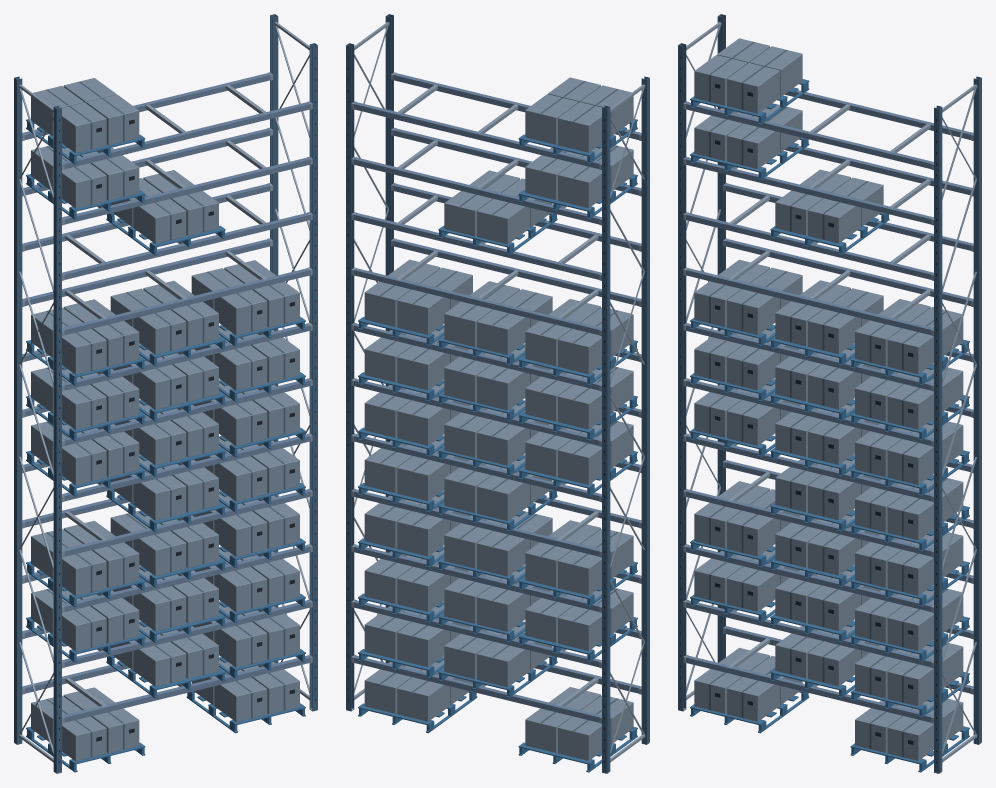
File: SM_GHS_V2Rack_B_W37619_Occ70.fbx
3 renders of one model, left to right at view 1: azimuth 30°, elevation 25°; view 2: azimuth 150°, elevation 25°; view 3: azimuth 330°, elevation 25°, orthographic.
Parts seen in each view (by area): view 1: SM_GHS_V2Rack_B_W37619_Occ70; view 2: SM_GHS_V2Rack_B_W37619_Occ70; view 3: SM_GHS_V2Rack_B_W37619_Occ70.
Boxes of the visible parts, x1=… form: SM_GHS_V2Rack_B_W37619_Occ70: x1=14, y1=14, x2=317, y2=773; SM_GHS_V2Rack_B_W37619_Occ70: x1=346, y1=14, x2=649, y2=773; SM_GHS_V2Rack_B_W37619_Occ70: x1=678, y1=14, x2=981, y2=773.
Bounding box in the file's own units: 376 × 122 × 915.
